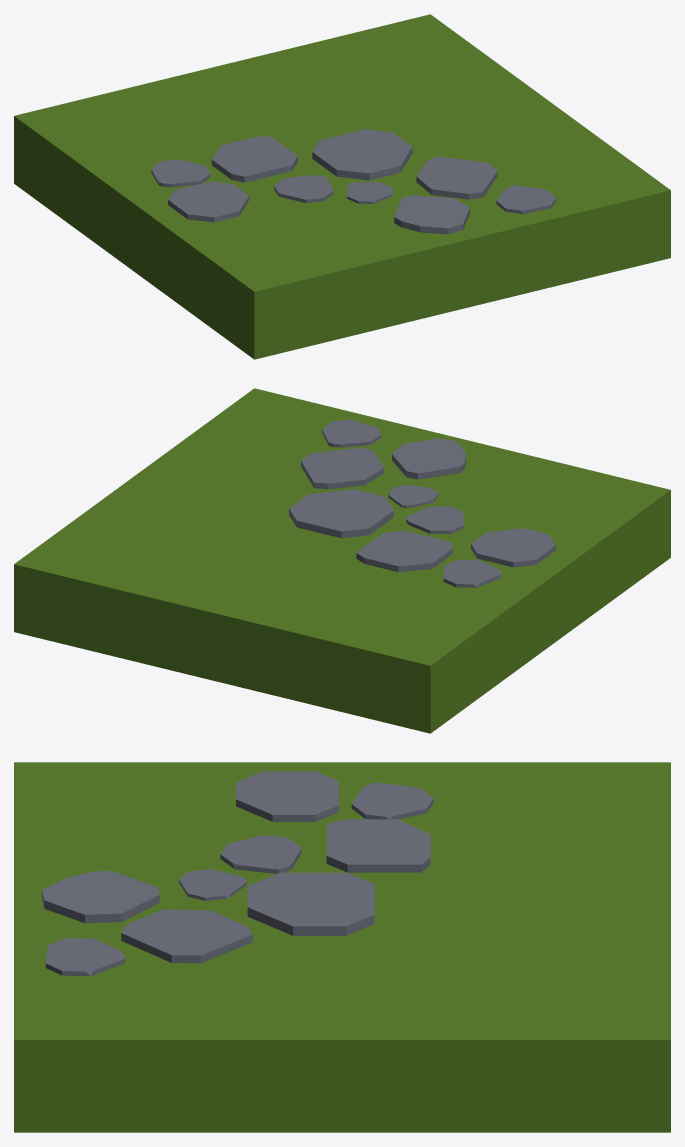
File: RockTurn.fbx
3 views of the same model, one above another, from view 1: azimuth 30°, elevation 25°; view 2: azimuth 150°, elevation 25°; view 3: azimuth 270°, elevation 25° (orthographic). The views are drawn at different scales.
Visible parts, largest first — view 1: RockTurn; view 2: RockTurn; view 3: RockTurn.
Boxes of the visible parts, bbox=[...] form: RockTurn: bbox=[14, 14, 670, 359]; RockTurn: bbox=[14, 388, 670, 733]; RockTurn: bbox=[14, 762, 670, 1132].
Size of the model in its own units: 450 by 77.12 by 450.
